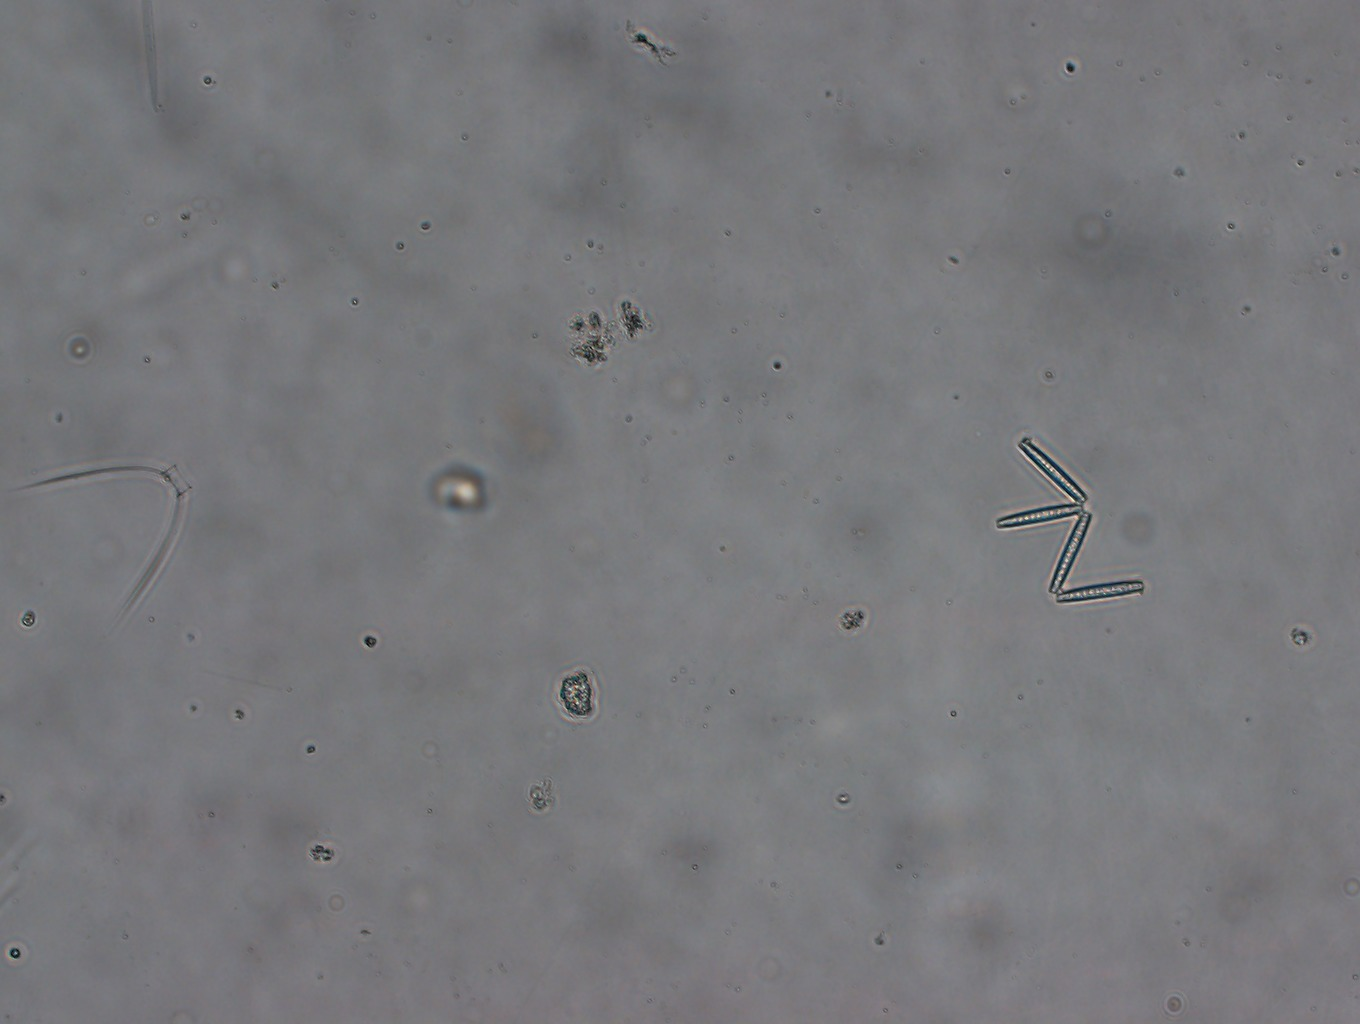chaetoceros: (12, 463, 191, 624)
thalassionema nitzschioides: (994, 440, 1145, 605)
